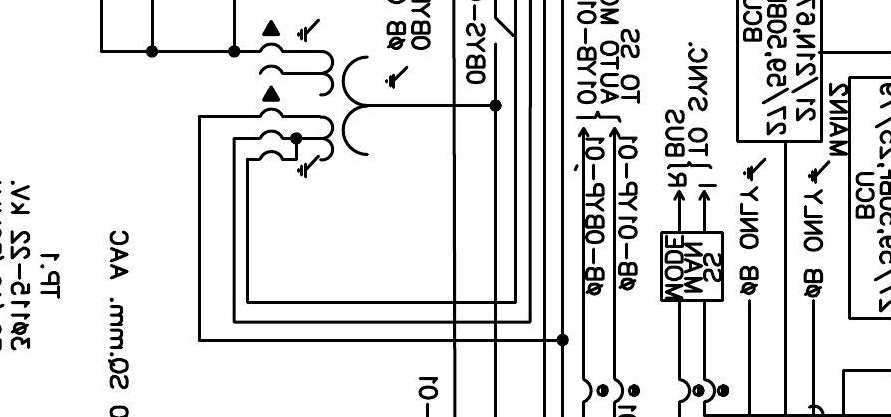115_ds: (493, 17, 514, 47)
115_vt_1p: (258, 18, 410, 180)
ss_man_mode: (659, 230, 725, 303)
